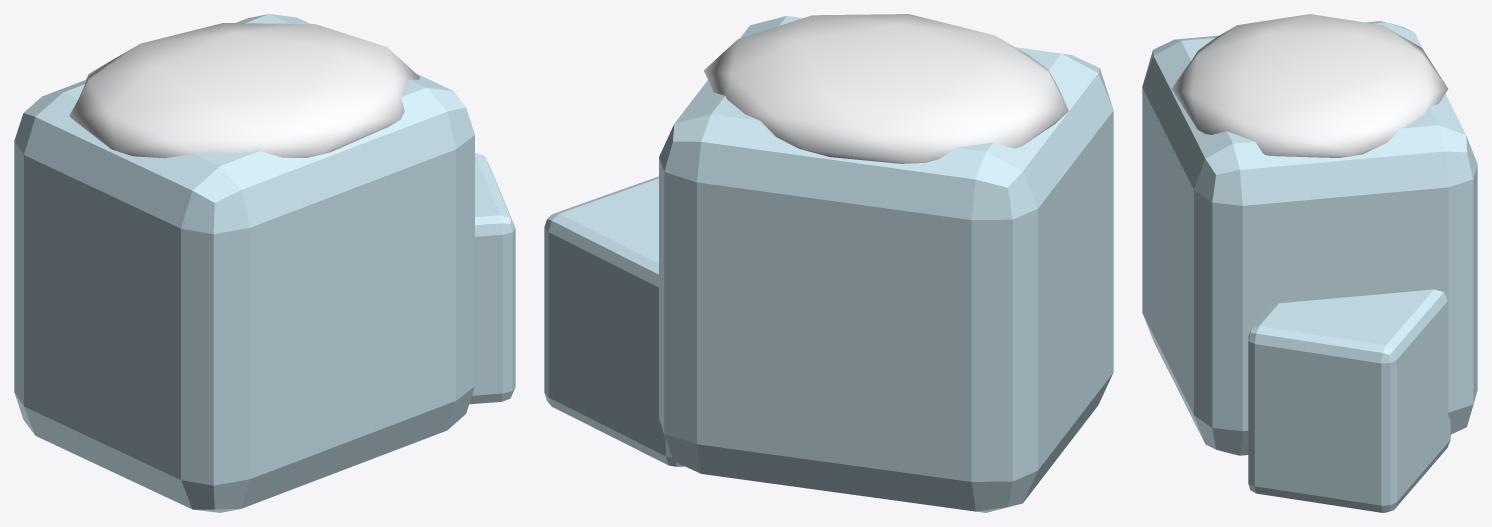
File: IceBlock.fbx
3 views of the same model, side by side, from view 1: azimuth 30°, elevation 25°; view 2: azimuth 150°, elevation 25°; view 3: azimuth 270°, elevation 25° (orthographic). The views are drawn at different scales.
Parts seen in each view (by area): view 1: Ice, Snow; view 2: Ice, Snow; view 3: Ice, Snow.
Part boxes in pixels (x1,y1,x2,y2): Ice: [14, 14, 515, 512]; Snow: [69, 23, 419, 158]; Ice: [544, 16, 1113, 512]; Snow: [704, 14, 1068, 163]; Ice: [1142, 21, 1477, 512]; Snow: [1171, 14, 1448, 157].
Bounding box in the file's own units: 3.67 × 2.8 × 2.54.
